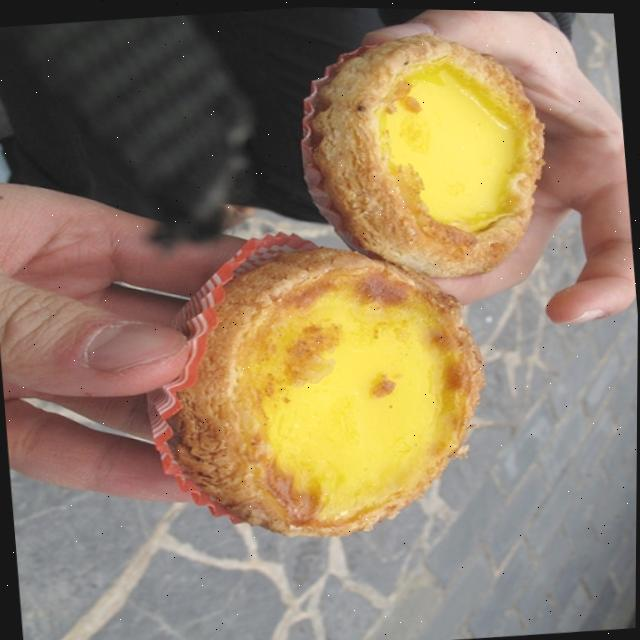炸货点心: (117, 5, 589, 558)
蛋糕甜品: (117, 5, 589, 558)
